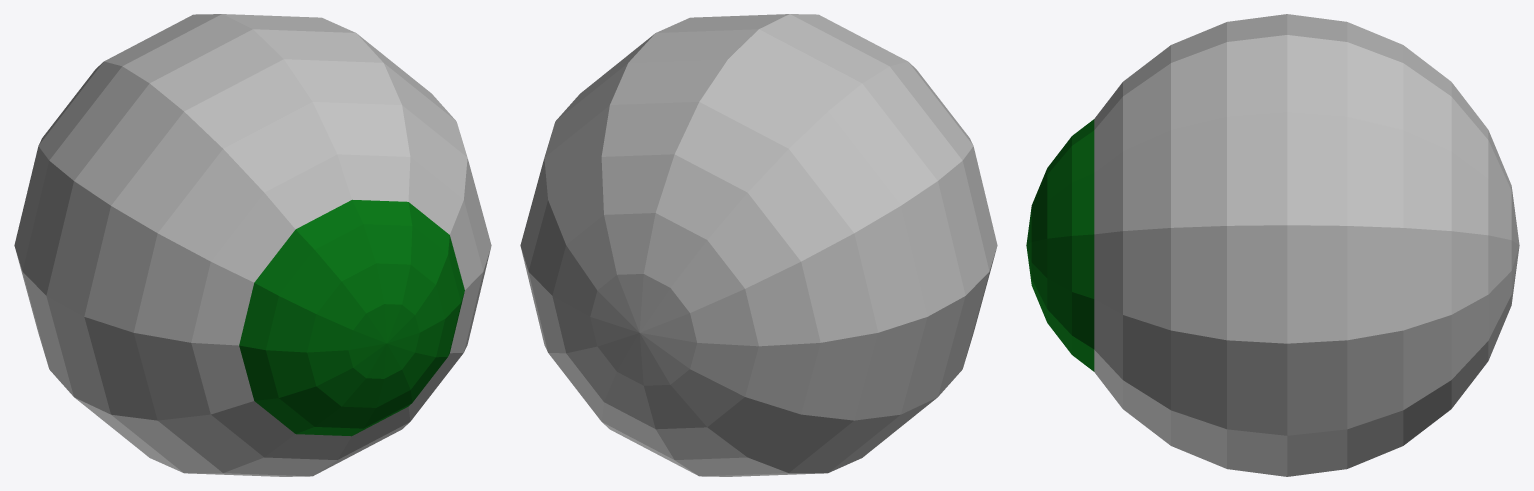
The model's file is eyeball2.dae.
3 renders of one model, left to right at view 1: azimuth 30°, elevation 25°; view 2: azimuth 150°, elevation 25°; view 3: azimuth 270°, elevation 25°, orthographic. The views are drawn at different scales.
Visible parts, largest first — view 1: Sphere_005, Sphere_006; view 2: Sphere_005; view 3: Sphere_005, Sphere_006.
Part boxes in pixels (x1,y1,x2,y2): Sphere_005: (14, 14, 491, 476); Sphere_006: (239, 199, 464, 436); Sphere_005: (520, 14, 997, 476); Sphere_005: (1094, 14, 1519, 476); Sphere_006: (1026, 119, 1094, 371).
Size of the model in its own units: 0.4962 by 0.5267 by 0.4963.
